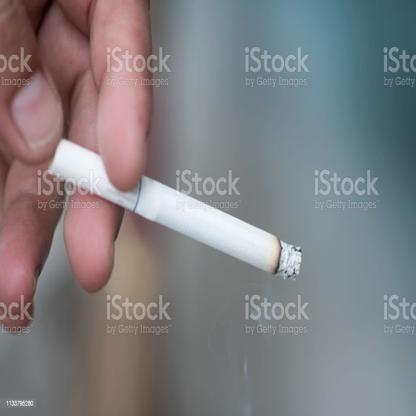trash: (49, 140, 302, 280)
